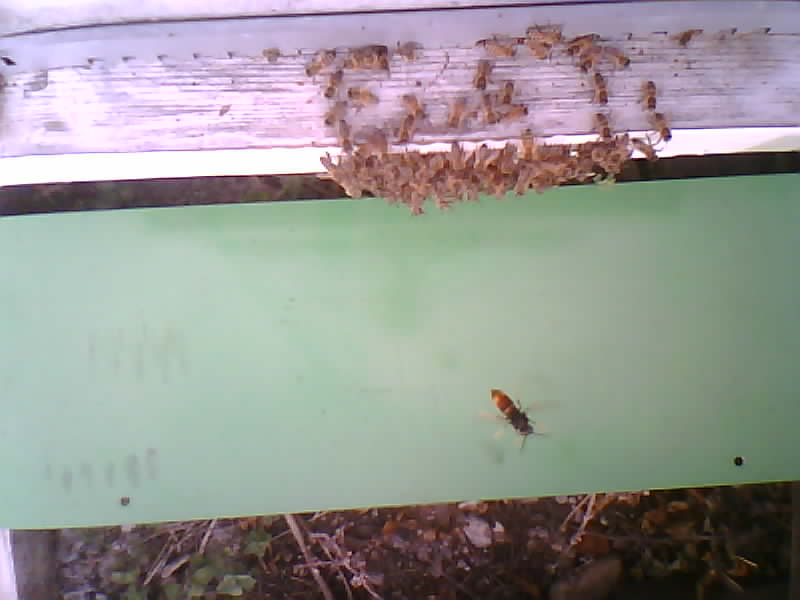bee: (322, 139, 652, 202), (296, 34, 402, 130), (487, 25, 639, 82), (396, 77, 537, 133), (578, 73, 625, 143), (636, 75, 684, 143)
hornet: (489, 391, 548, 446)
